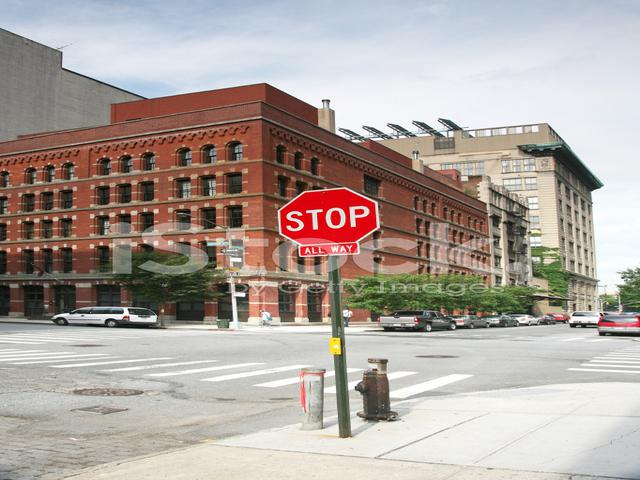stop: (275, 185, 383, 243)
